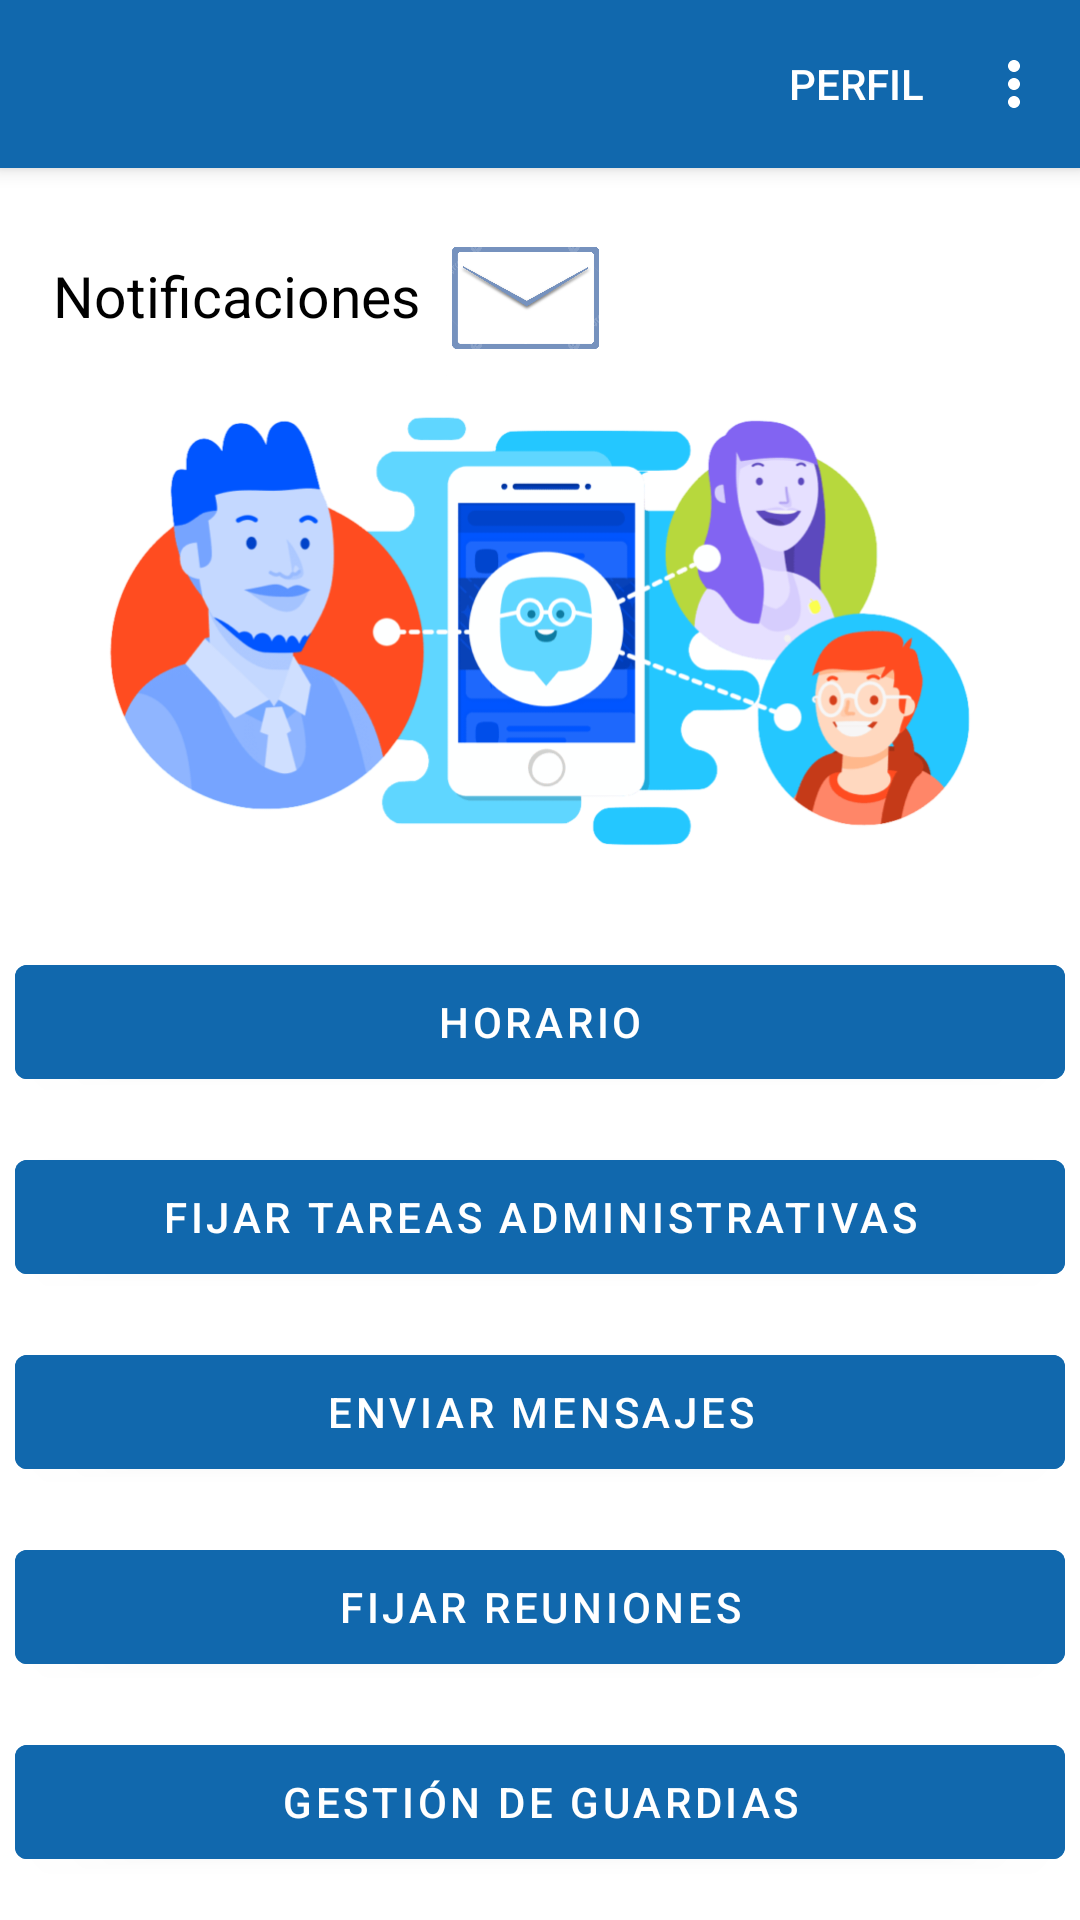

Screen size 1080*1920. Icon name, then its center in pixels as [x,y]:
mail: [525,298]
